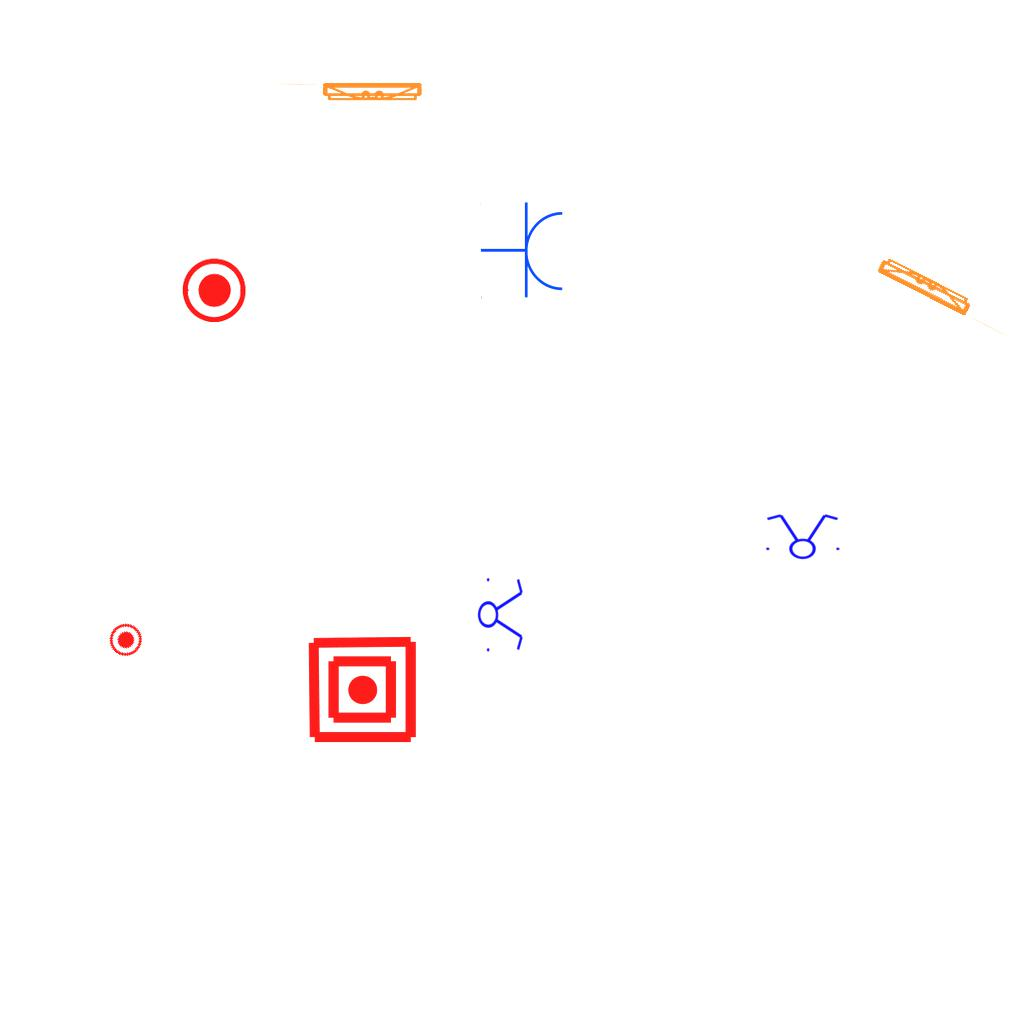NAM-Nichtautomatischer_Melder: (306, 633, 419, 746)
Schukosteckdose_einfach: (480, 201, 567, 301)
Serienschalter: (760, 512, 844, 560), (477, 572, 525, 656)
Sicherheitsleuchte_Wandeinbau: (870, 249, 1024, 344), (268, 80, 427, 105)
Taster: (182, 256, 248, 322), (103, 616, 150, 663)
